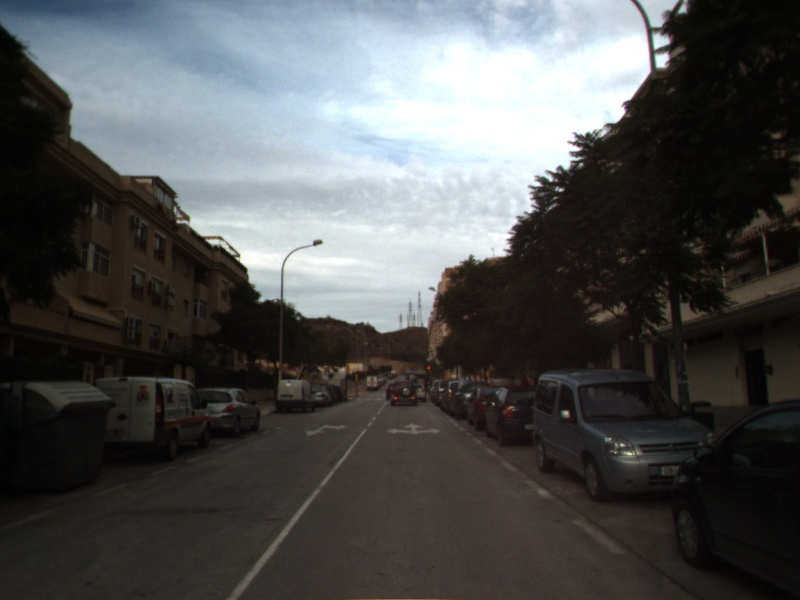STRAIGHT_LEFT_RIGHT: (386, 421, 444, 437)
